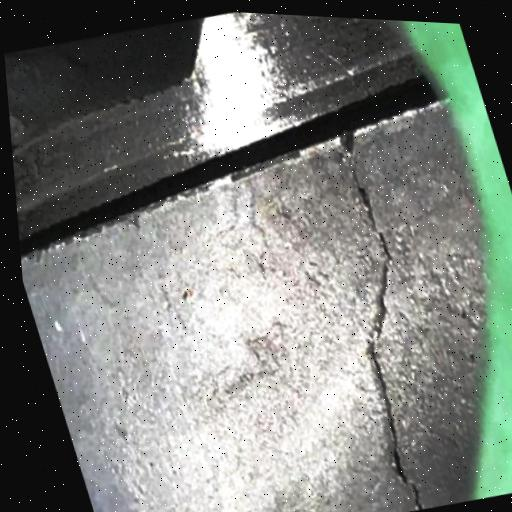crack: (339, 131, 402, 469), (405, 474, 421, 509)
